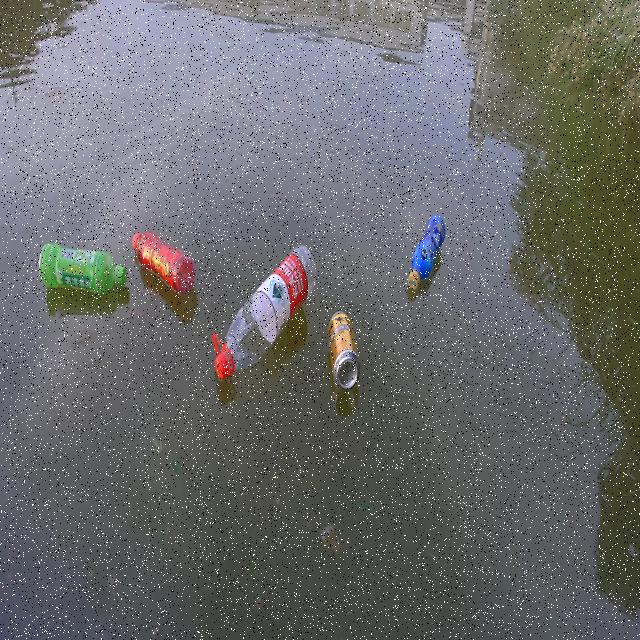Bottle: (210, 238, 318, 380), (35, 233, 128, 302), (132, 221, 197, 295), (406, 212, 447, 294)
Can: (326, 308, 362, 391)
